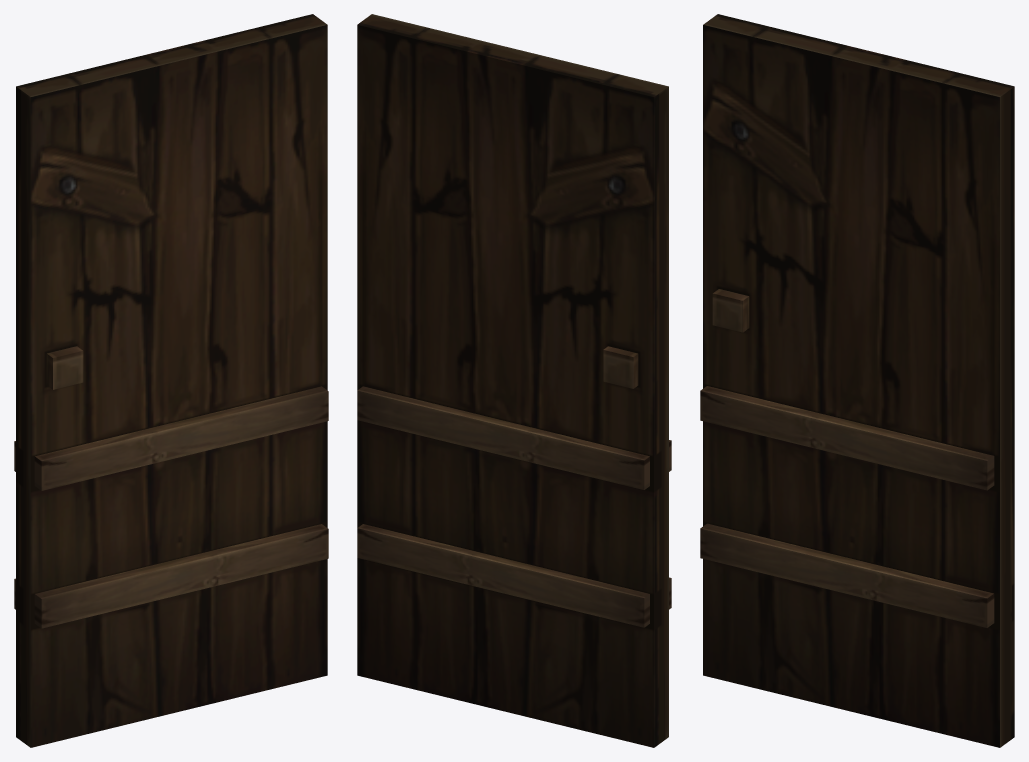
The model's file is mf_door021d.FBX.
3 views of the same model, side by side, from view 1: azimuth 30°, elevation 25°; view 2: azimuth 150°, elevation 25°; view 3: azimuth 330°, elevation 25° (orthographic).
Visible parts, largest first — view 1: mf_door021d; view 2: mf_door021d; view 3: mf_door021d.
Boxes of the visible parts, x1,y1,x2,y2 form: mf_door021d: (14, 14, 328, 747); mf_door021d: (357, 14, 671, 747); mf_door021d: (700, 14, 1014, 747).
Size of the model in its own units: 0.9407 by 1.97 by 0.1508.
Materials: 1 (1 with a texture image).
